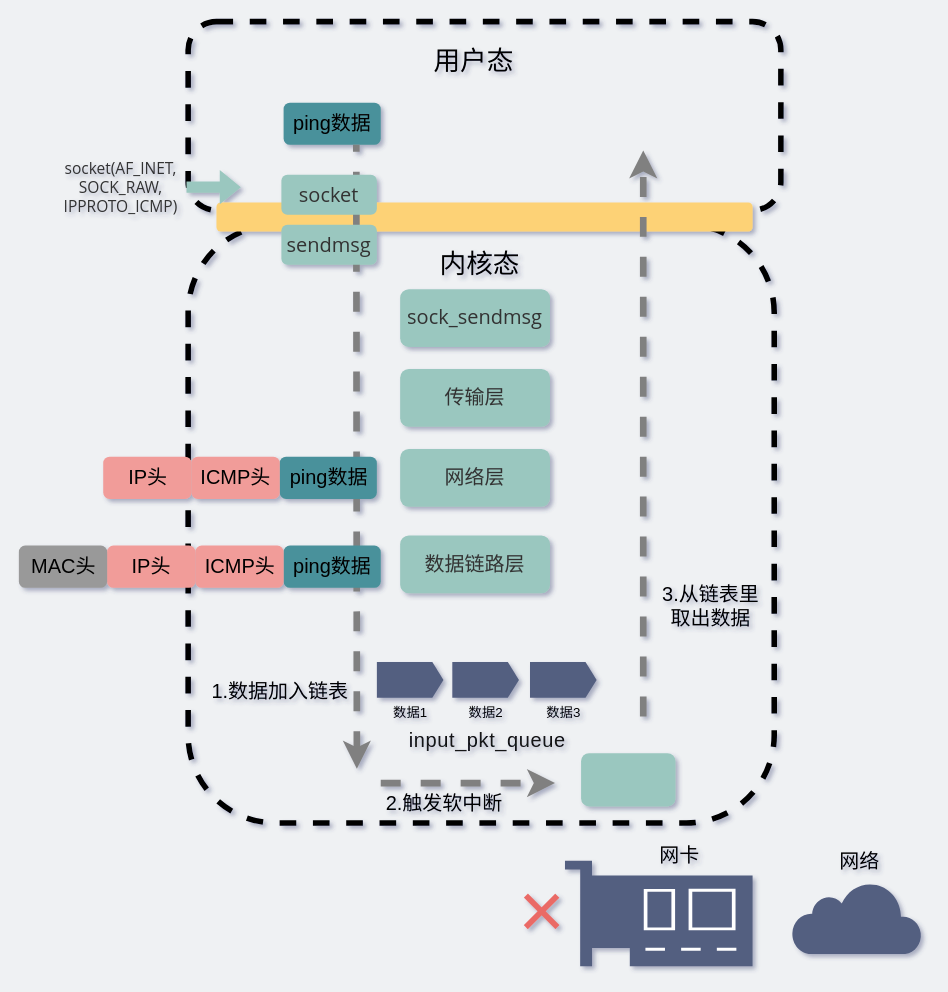
Some shapes in this 948 by 992 pixel diagram are drawn without their labels. The shapes that lost their labels are listed below. From the top down, each one's centre as x and y in pixels, then its label:
At pixel 484 216: "socket接口".
At pixel 628 779: "软中断".
